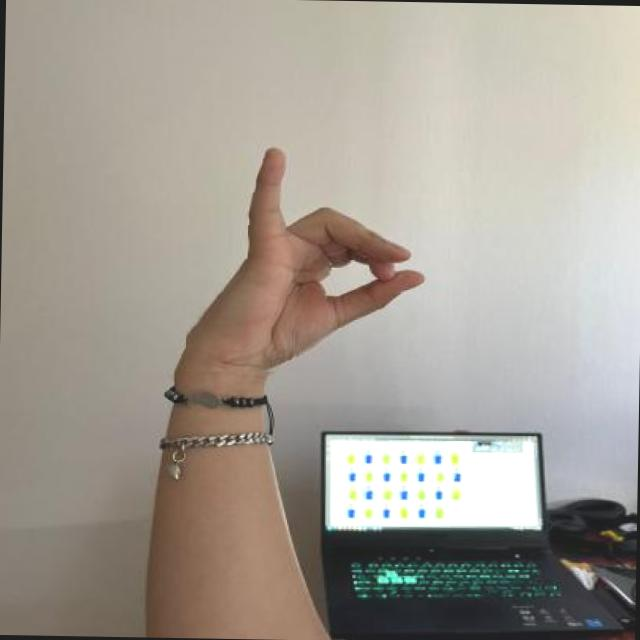D: (185, 140, 443, 376)
